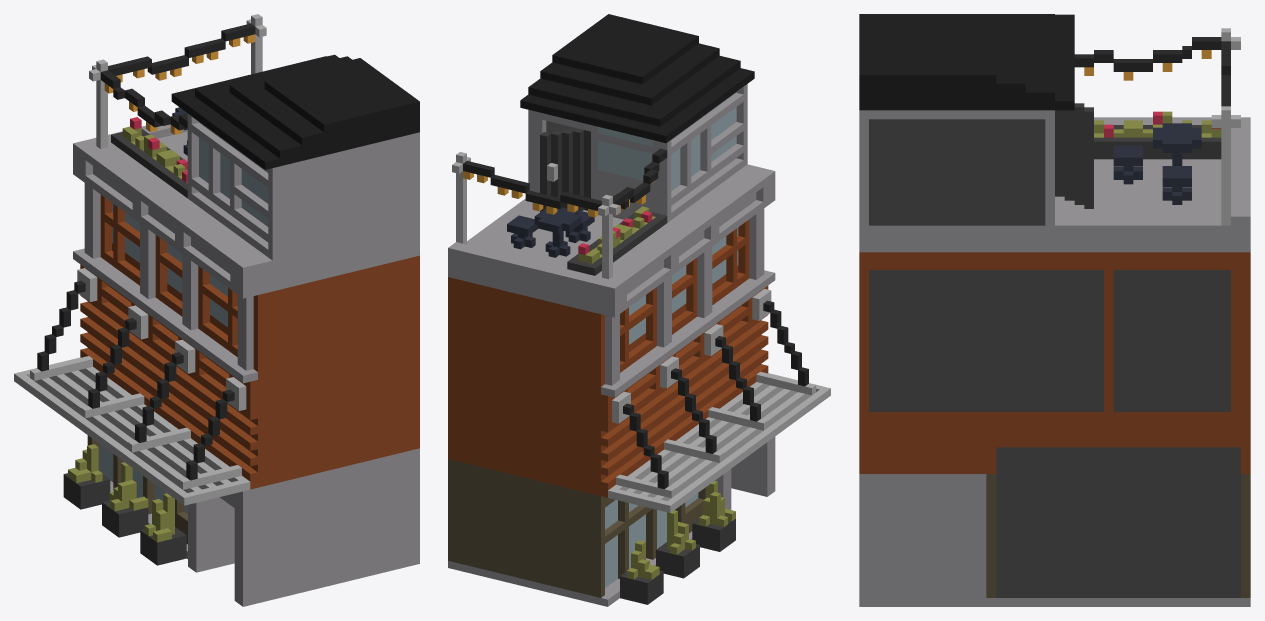
The model's file is Buildings Final For Import-5.obj.
3 renders of one model, left to right at view 1: azimuth 30°, elevation 25°; view 2: azimuth 150°, elevation 25°; view 3: azimuth 270°, elevation 25°, orthographic. The views are drawn at different scales.
Size of the model in its own units: 3.2 by 6 by 4.
Materials: 1 (1 with a texture image).
